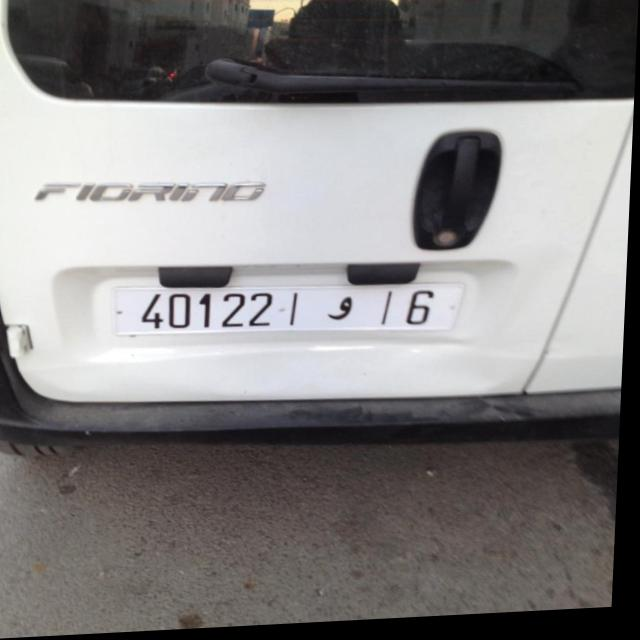License-Plate: (116, 288, 466, 337)
